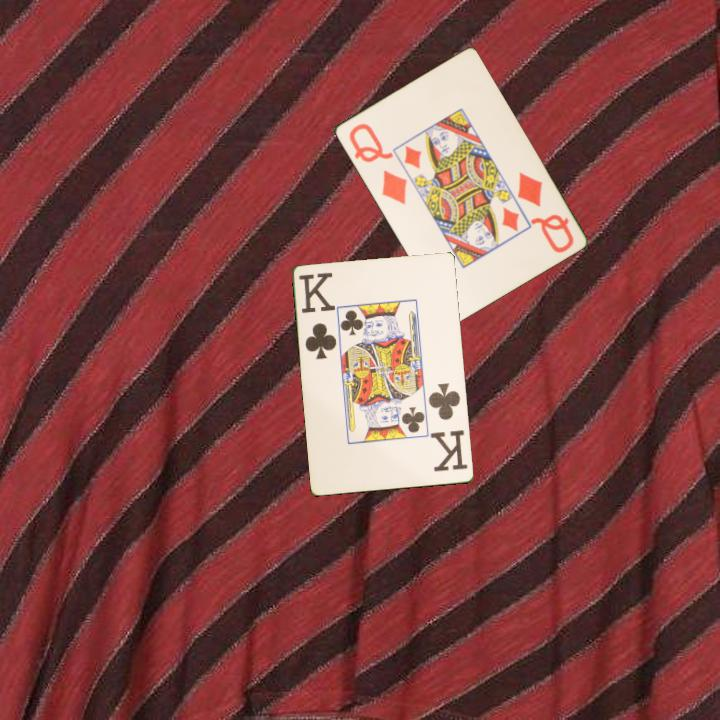Kc: (425, 380, 471, 475), (296, 269, 340, 363)
Qd: (345, 119, 410, 207), (513, 168, 577, 257)
